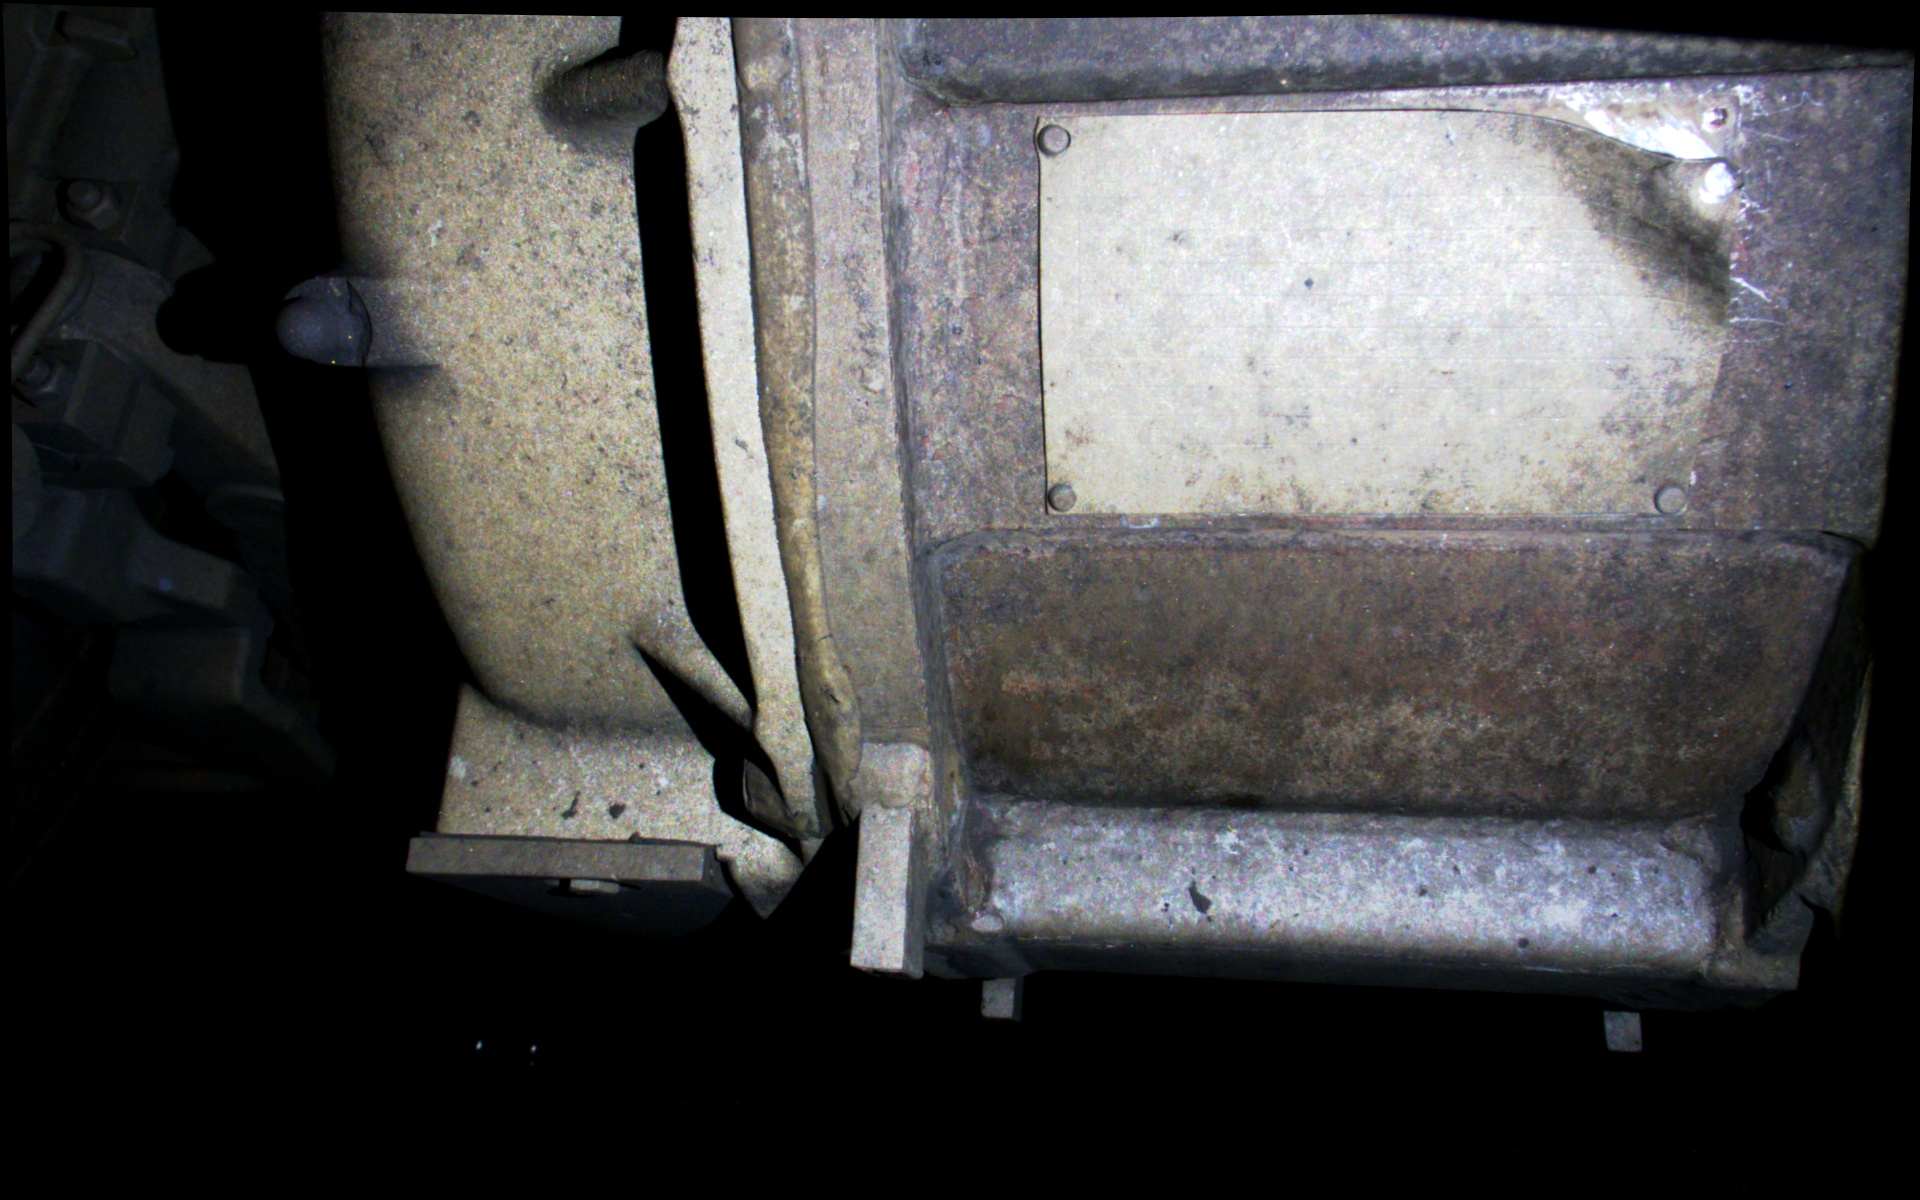bolthead1: (1035, 119, 1074, 160)
bolthead2: (1695, 102, 1736, 134)
bolthead3: (1044, 478, 1080, 516)
bolthead4: (1653, 481, 1686, 517)
namespace: (1034, 100, 1726, 518)
